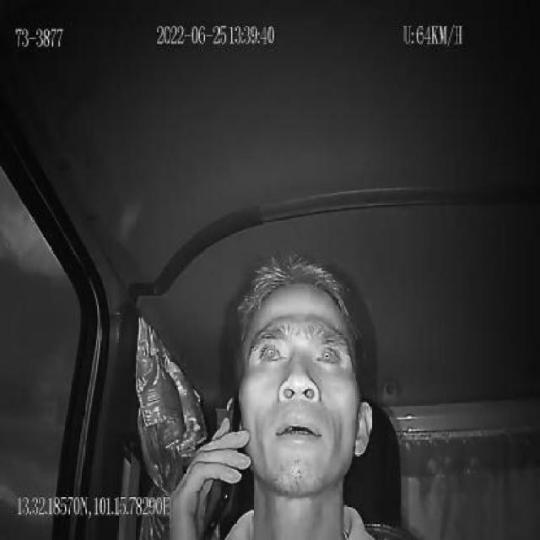phone: (202, 389, 241, 540)
